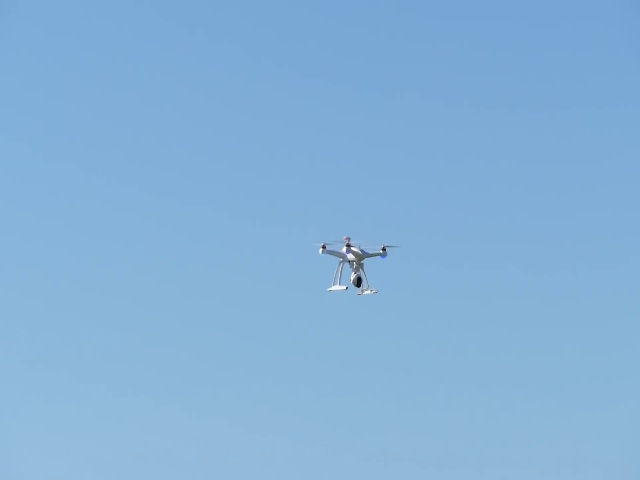drone: (311, 229, 403, 298)
